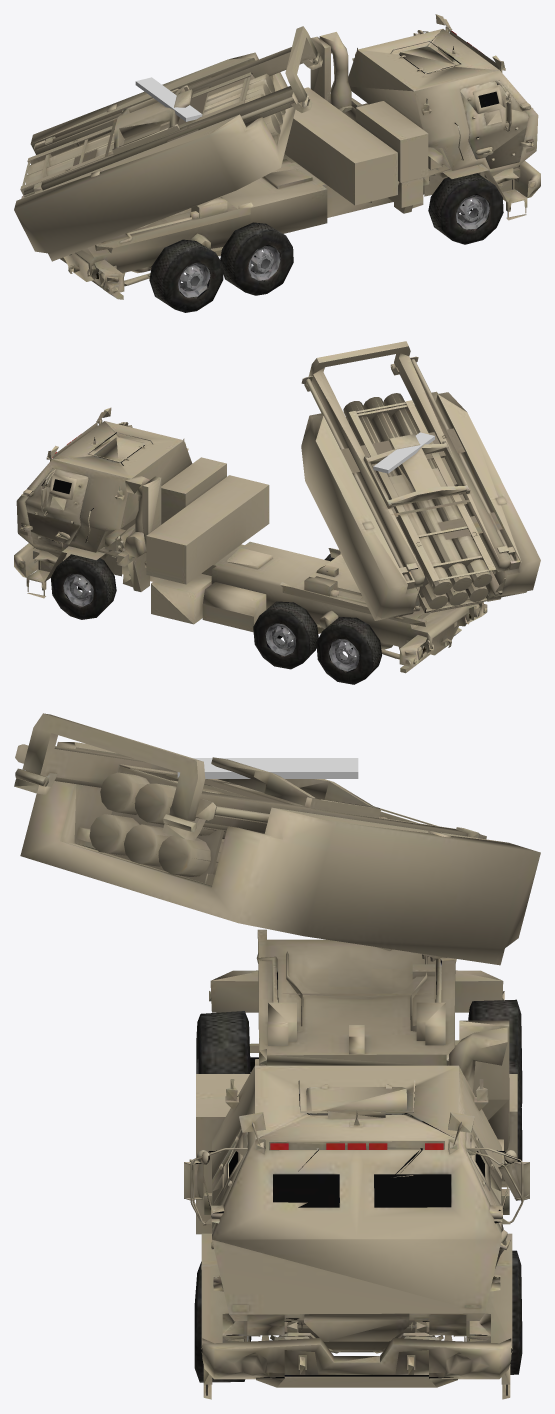
The model's file is himars.glb.
3 renders of one model, top to bottom at view 1: azimuth 30°, elevation 25°; view 2: azimuth 150°, elevation 25°; view 3: azimuth 270°, elevation 25°, orthographic. The views are drawn at different scales.
Visible parts, largest first — view 1: g_himars_hull, g_himars_turret; view 2: g_himars_hull, g_himars_turret; view 3: g_himars_hull, g_himars_turret.
Part boxes in pixels (x1=…): g_himars_hull: x1=60, y1=14, x2=540, y2=312; g_himars_turret: x1=14, y1=26, x2=322, y2=261; g_himars_hull: x1=14, y1=407, x2=487, y2=684; g_himars_turret: x1=301, y1=341, x2=540, y2=620; g_himars_hull: x1=184, y1=929, x2=529, y2=1399; g_himars_turret: x1=14, y1=713, x2=540, y2=965.
Size of the model in its own units: 7 by 3.38 by 3.46.
Materials: 3 (2 with a texture image).
